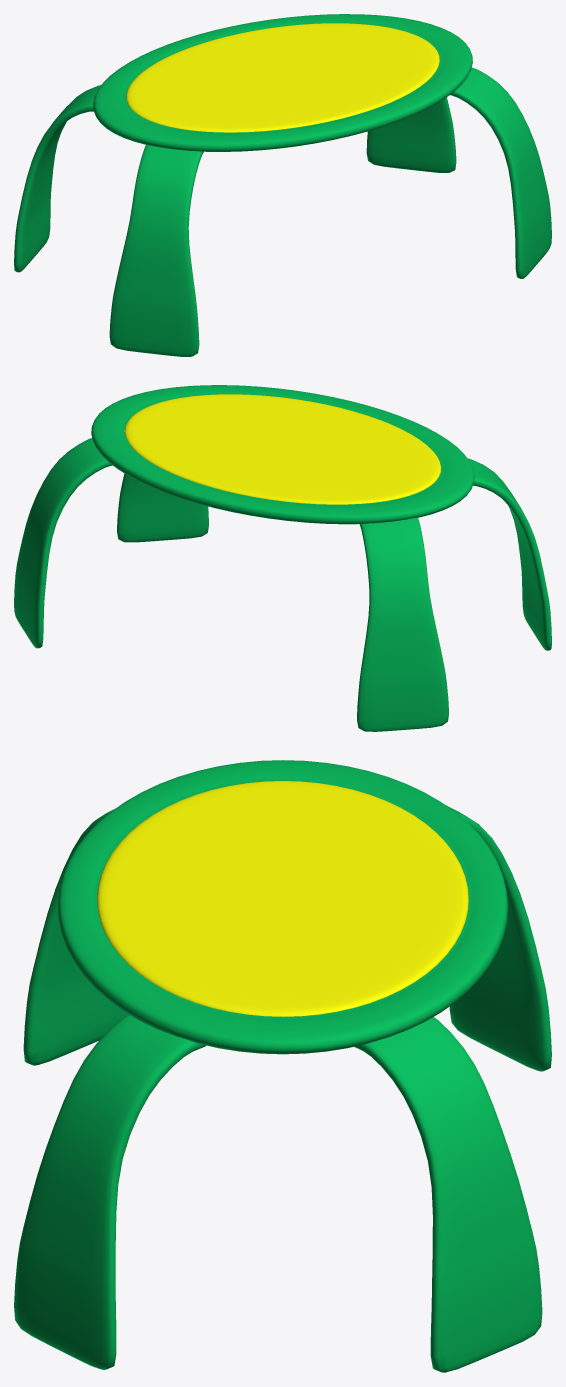
The model's file is newfroggytable.fbx.
3 renders of one model, top to bottom at view 1: azimuth 30°, elevation 25°; view 2: azimuth 150°, elevation 25°; view 3: azimuth 270°, elevation 25°, orthographic. The views are drawn at different scales.
Parts seen in each view (by area): view 1: Cube.001; view 2: Cube.001; view 3: Cube.001.
Part boxes in pixels (x1,y1,x2,y2): Cube.001: (14, 14, 551, 356); Cube.001: (14, 385, 551, 731); Cube.001: (14, 760, 551, 1372).
Bounding box in the file's own units: 442 × 178 × 284.
